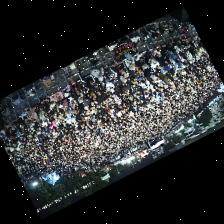person: (76, 66, 95, 86), (145, 52, 160, 69), (142, 62, 156, 78), (69, 77, 81, 94), (174, 43, 187, 58), (111, 61, 125, 74), (37, 97, 50, 111), (128, 79, 140, 94), (134, 51, 144, 66), (167, 50, 179, 62), (50, 91, 63, 102), (81, 84, 91, 98), (29, 107, 37, 124), (92, 67, 103, 79), (113, 83, 123, 96), (125, 57, 135, 69), (78, 103, 88, 115), (66, 95, 76, 107), (120, 83, 130, 94), (164, 62, 175, 72), (128, 66, 138, 77), (151, 44, 160, 56), (104, 64, 111, 79), (110, 67, 117, 82), (92, 83, 100, 96), (61, 86, 71, 96), (95, 77, 105, 87), (13, 116, 22, 127), (185, 50, 194, 61), (196, 44, 205, 55), (160, 71, 169, 82), (39, 110, 47, 122), (106, 79, 114, 91), (50, 99, 58, 111), (180, 38, 190, 47), (113, 93, 122, 103), (96, 95, 105, 105), (118, 71, 127, 81), (169, 55, 177, 66), (50, 119, 57, 131), (21, 110, 28, 122), (161, 66, 170, 75), (49, 110, 58, 119), (165, 41, 174, 50), (160, 44, 167, 55), (117, 77, 125, 86), (178, 43, 187, 51), (36, 113, 42, 125), (101, 85, 107, 96), (187, 36, 194, 45), (8, 119, 15, 128), (0, 128, 5, 138), (59, 104, 66, 110)
